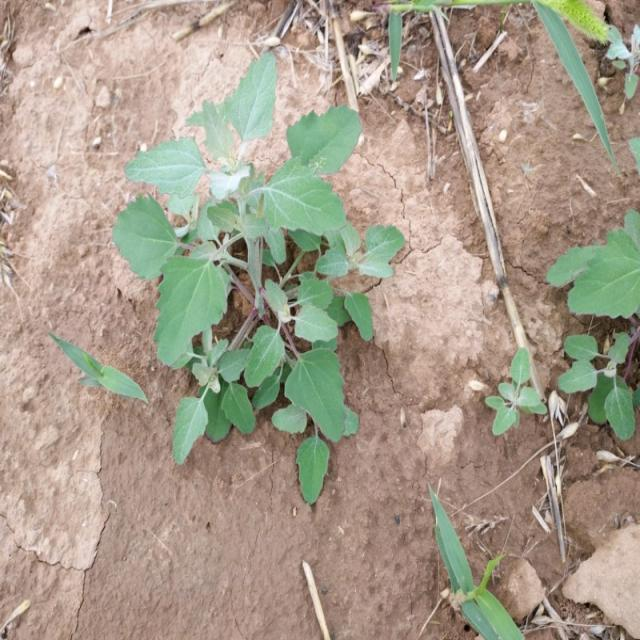goosefoots: (90, 63, 395, 502)
